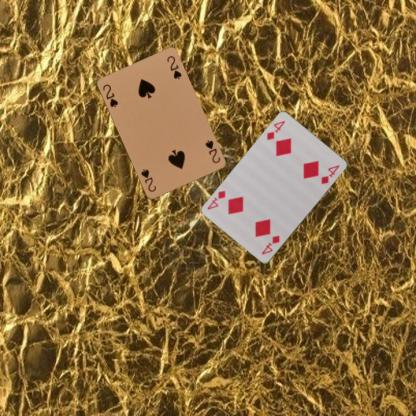2s: (100, 81, 119, 109), (203, 138, 222, 164)
4d: (264, 118, 287, 142), (259, 233, 281, 256)
